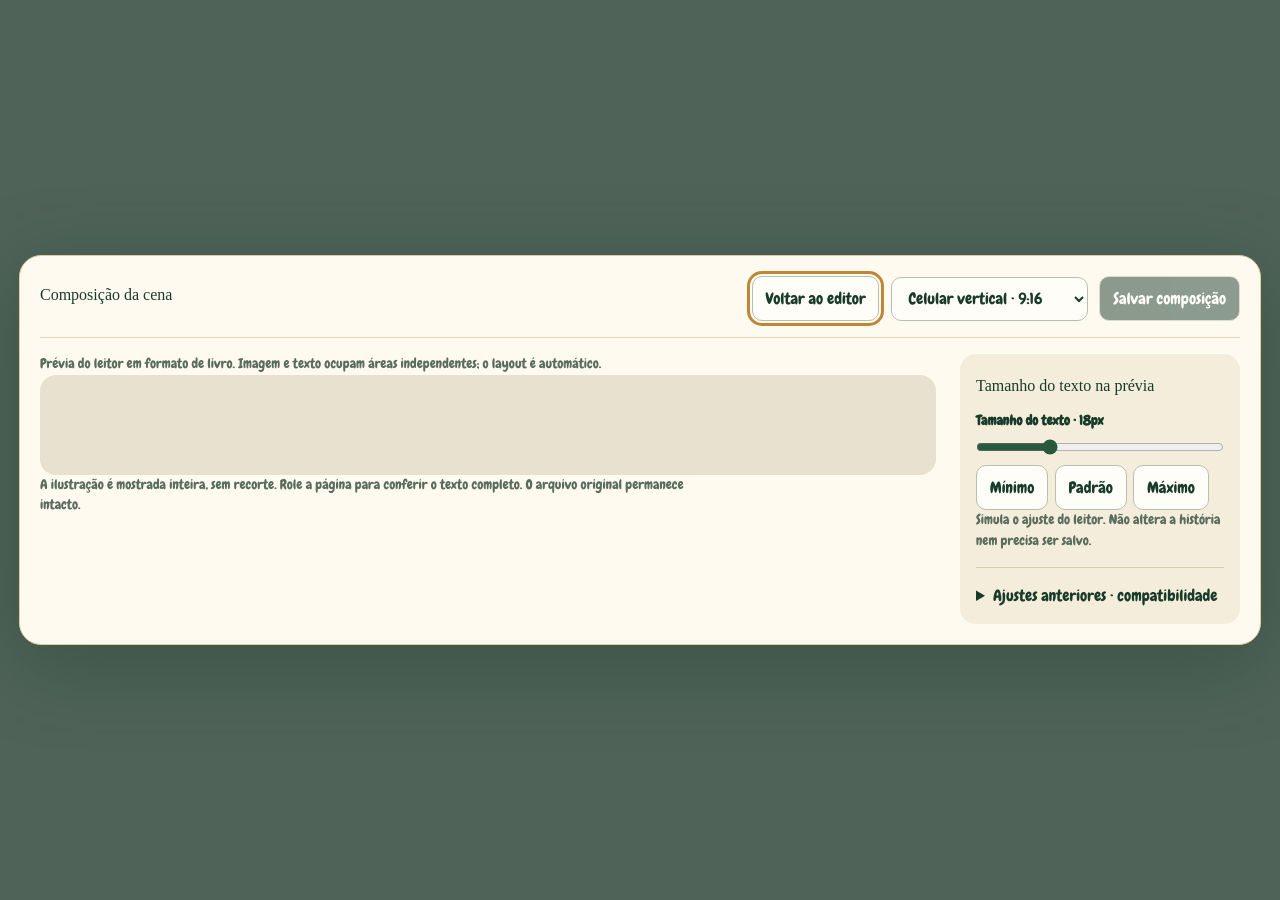
editor de composição › simula os tamanhos mínimo e máximo sem marcar a história como alterada
Click the button "Mínimo".
click(1012, 488)  # box left=976, top=465, right=1048, bottom=510
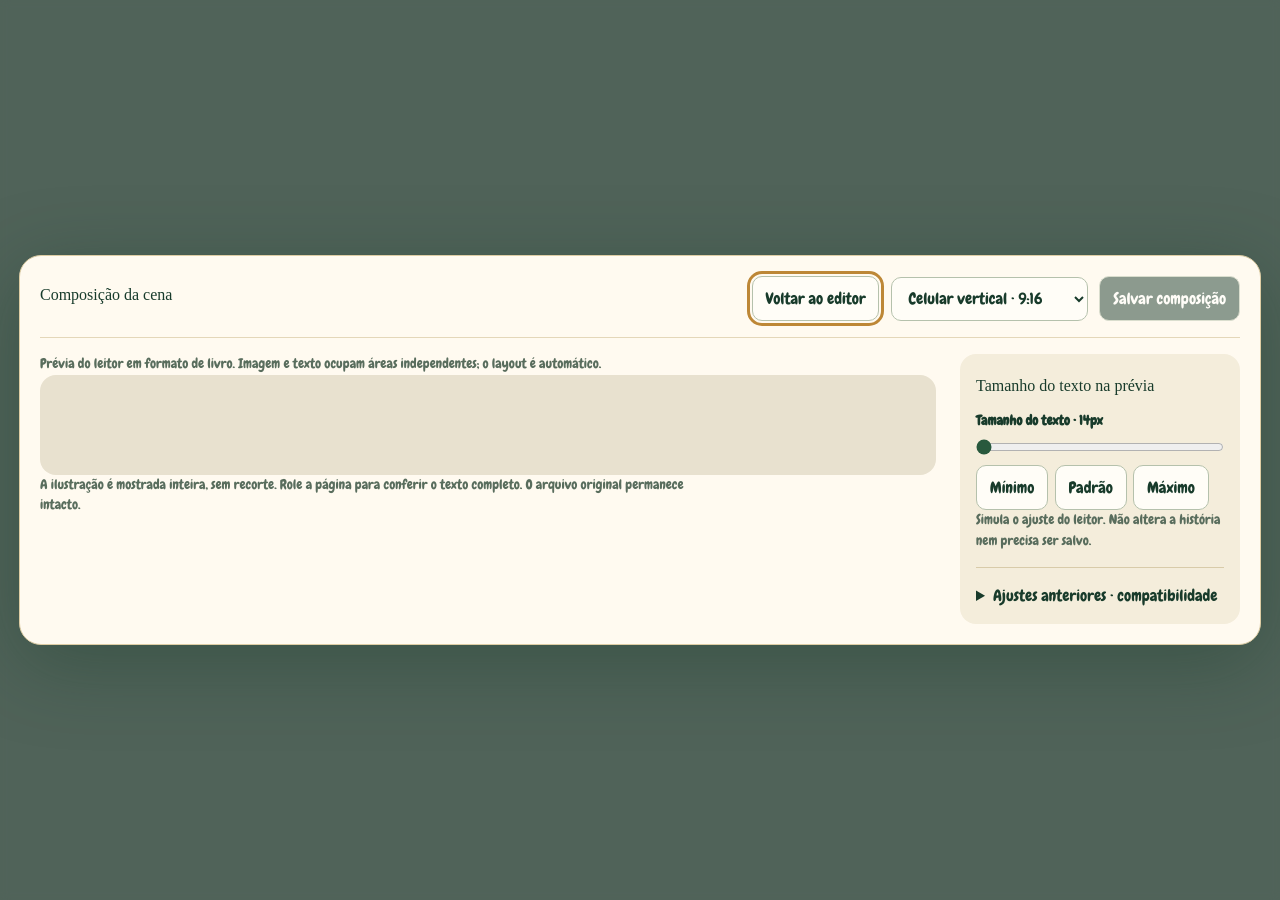
Now the slider named "Tamanho do texto na prévia" holds "14", box left=976, top=439, right=1224, bottom=455
Click the button "Máximo".
click(1171, 488)  # box left=1133, top=465, right=1209, bottom=510
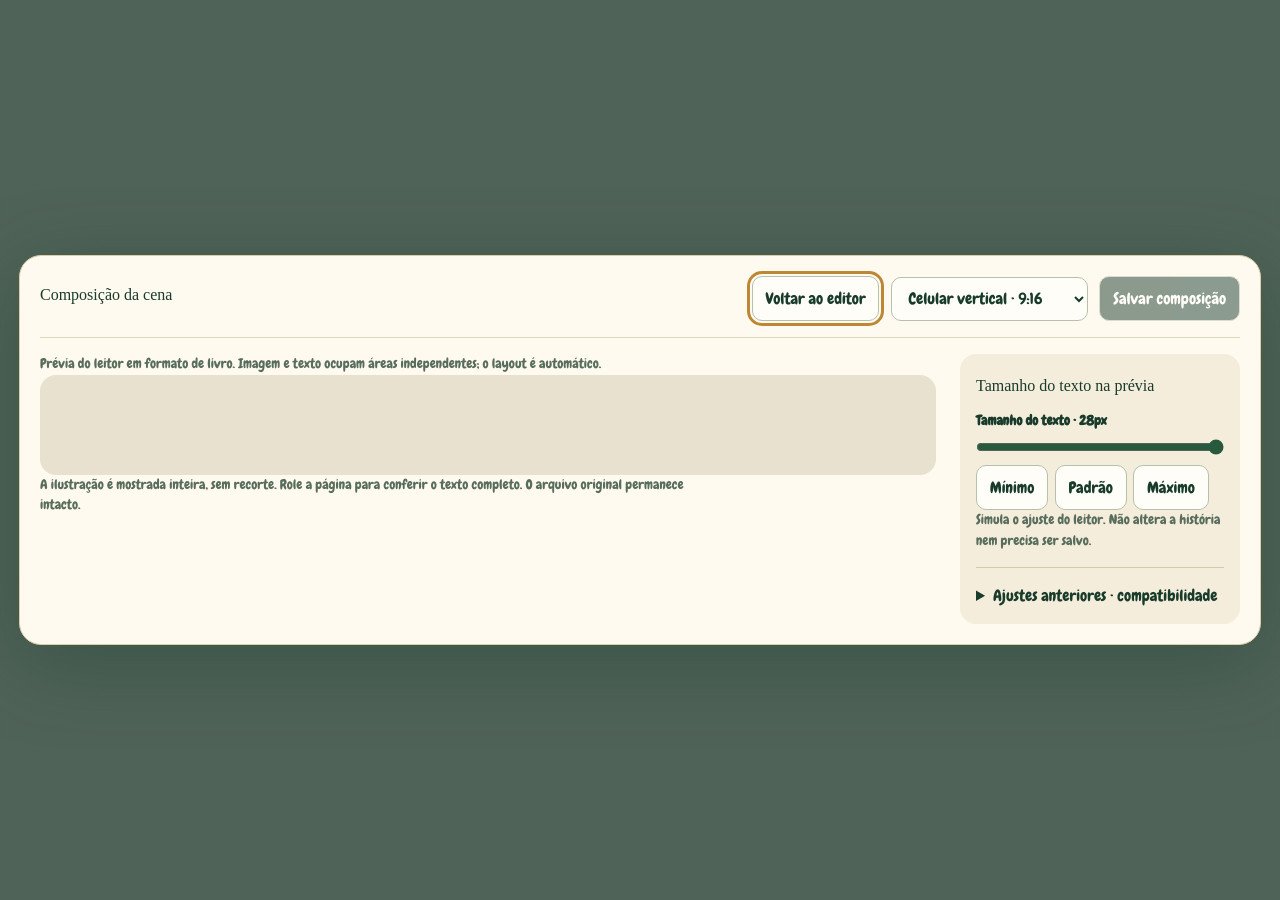
Expected: the button "Salvar composição" is disabled, left=1099, top=276, right=1240, bottom=321
Now the slider named "Tamanho do texto na prévia" holds "28", box left=976, top=439, right=1224, bottom=455
Click the button "Padrão".
click(1091, 488)  # box left=1055, top=465, right=1127, bottom=510
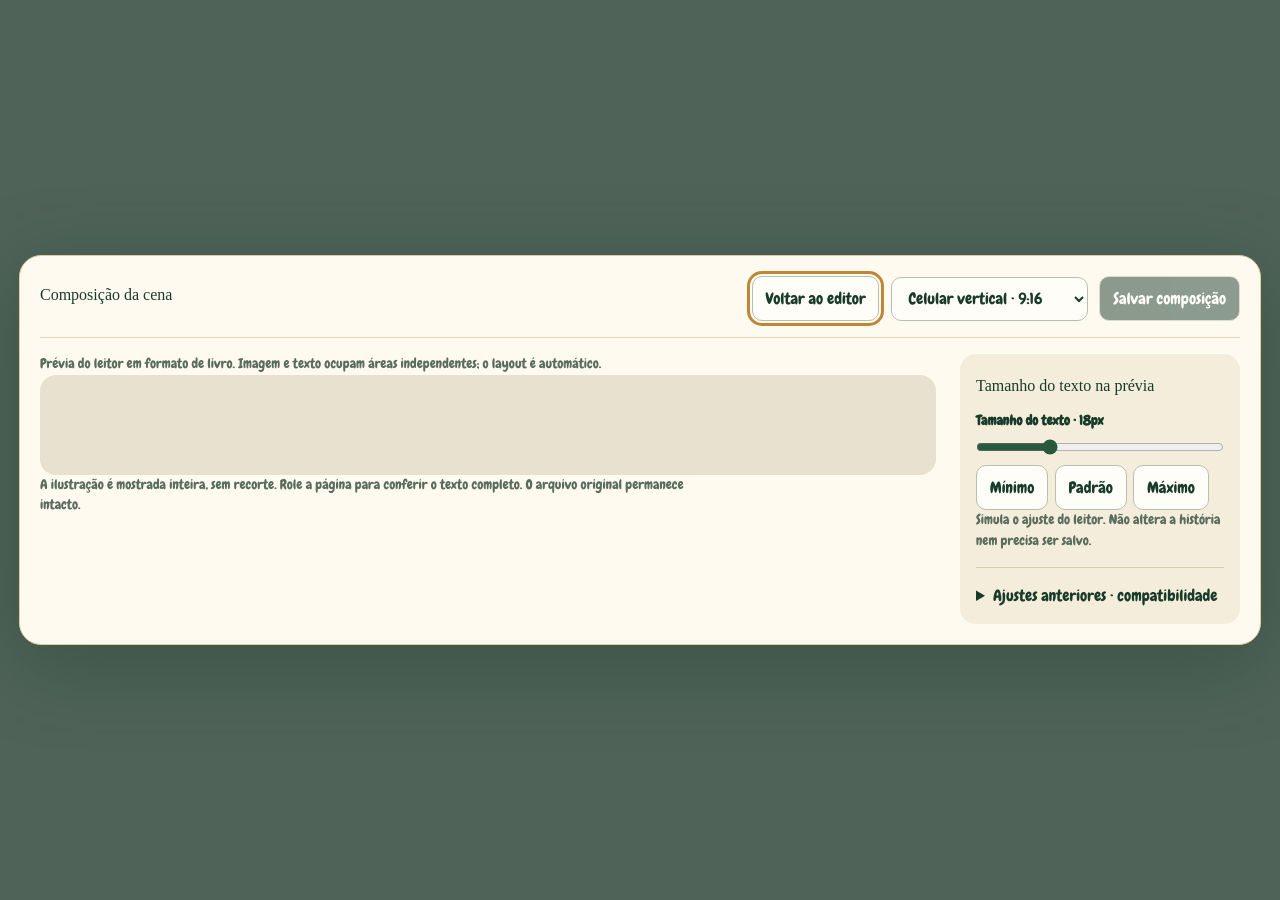
Now the slider named "Tamanho do texto na prévia" holds "18", box left=976, top=439, right=1224, bottom=455
